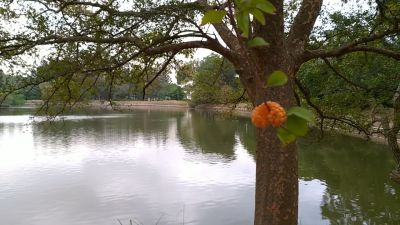eggs: (252, 100, 287, 129)
